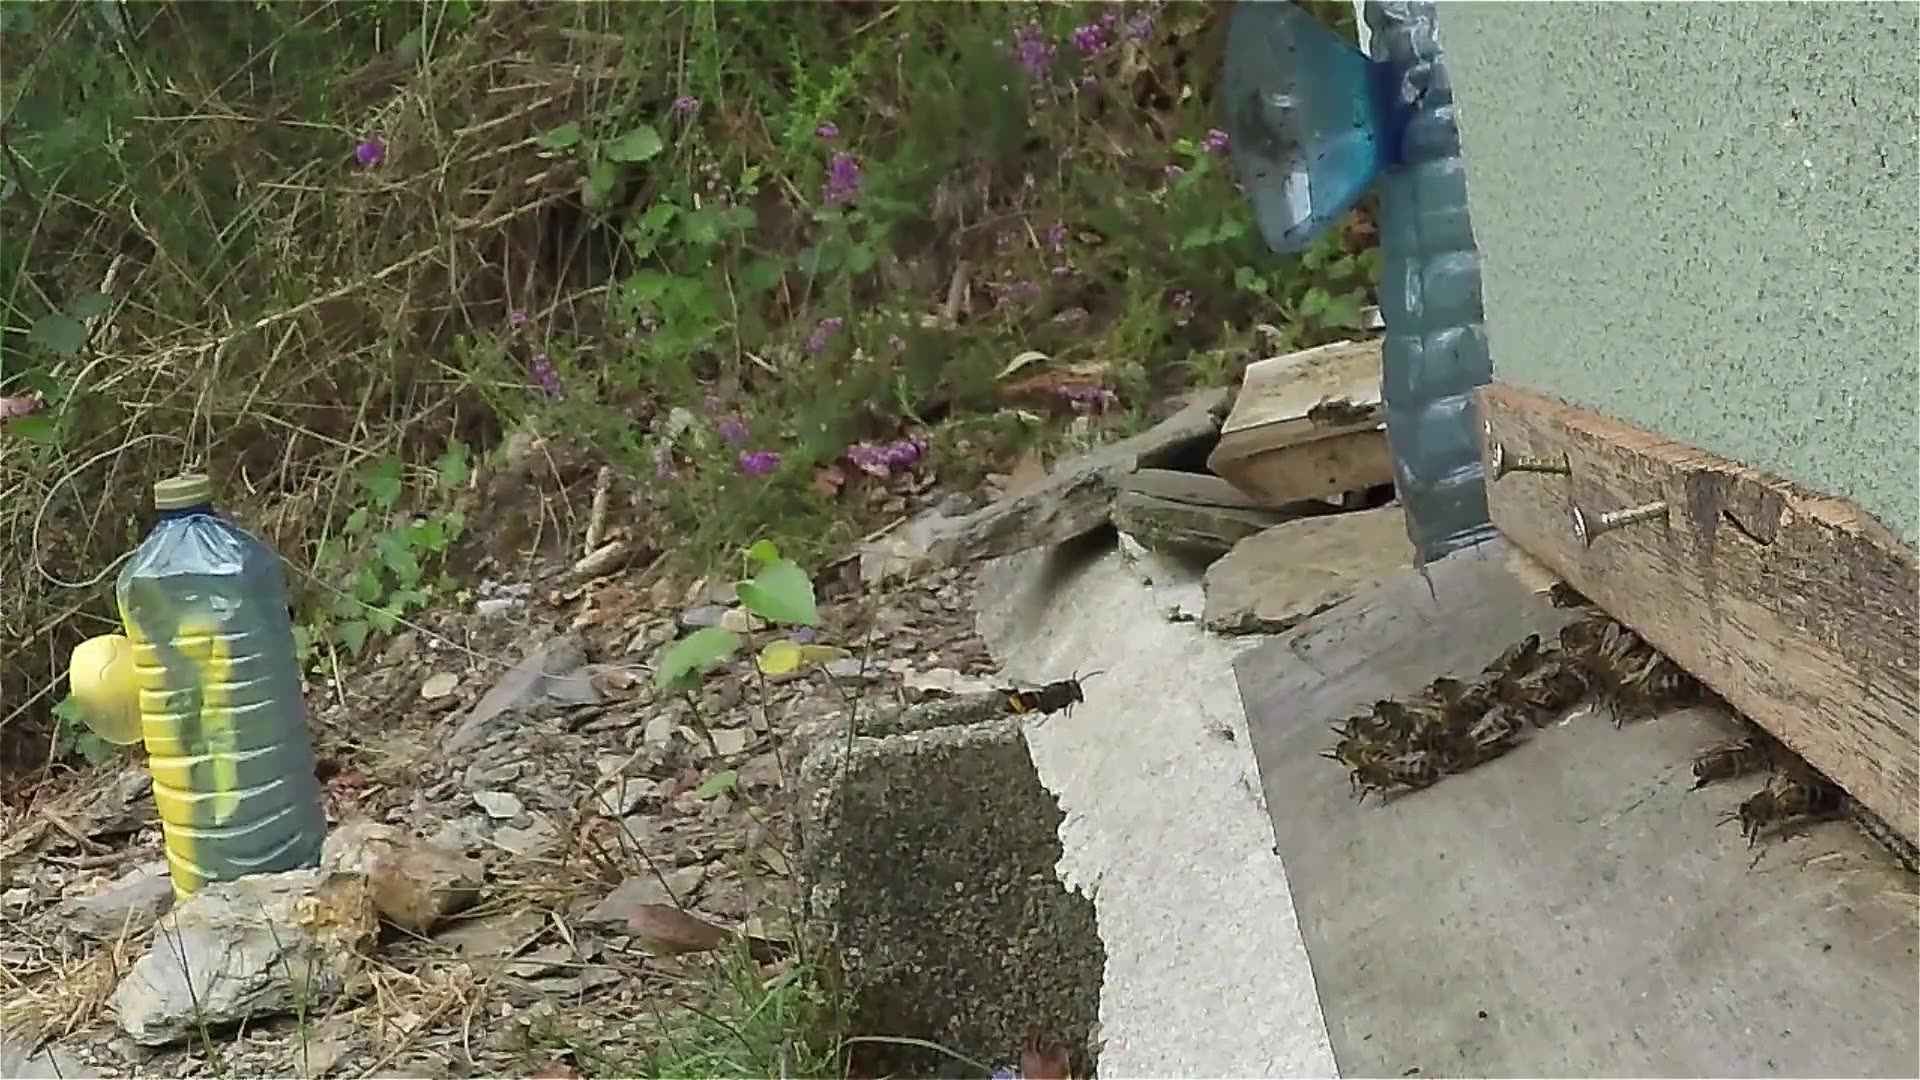bee: (1491, 591, 1705, 732), (1669, 723, 1855, 849), (1331, 679, 1516, 794)
hornet: (990, 669, 1101, 723)
